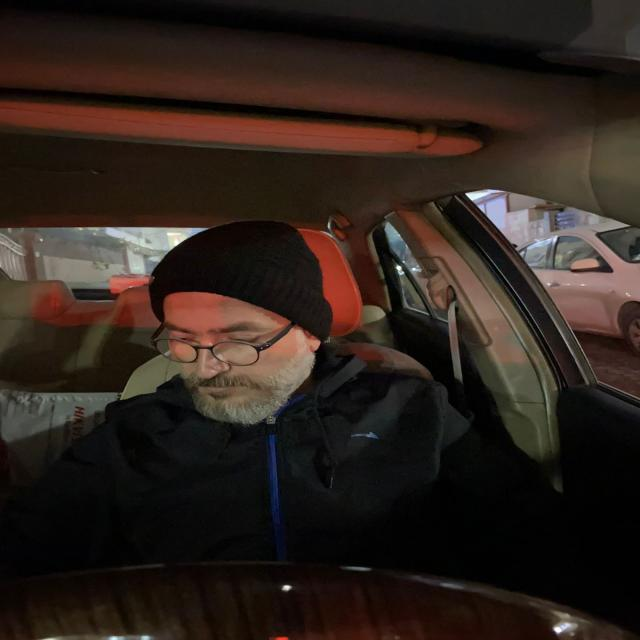drowsy: (152, 226, 334, 434)
